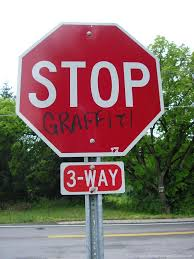stop_sign: (14, 20, 164, 157)
